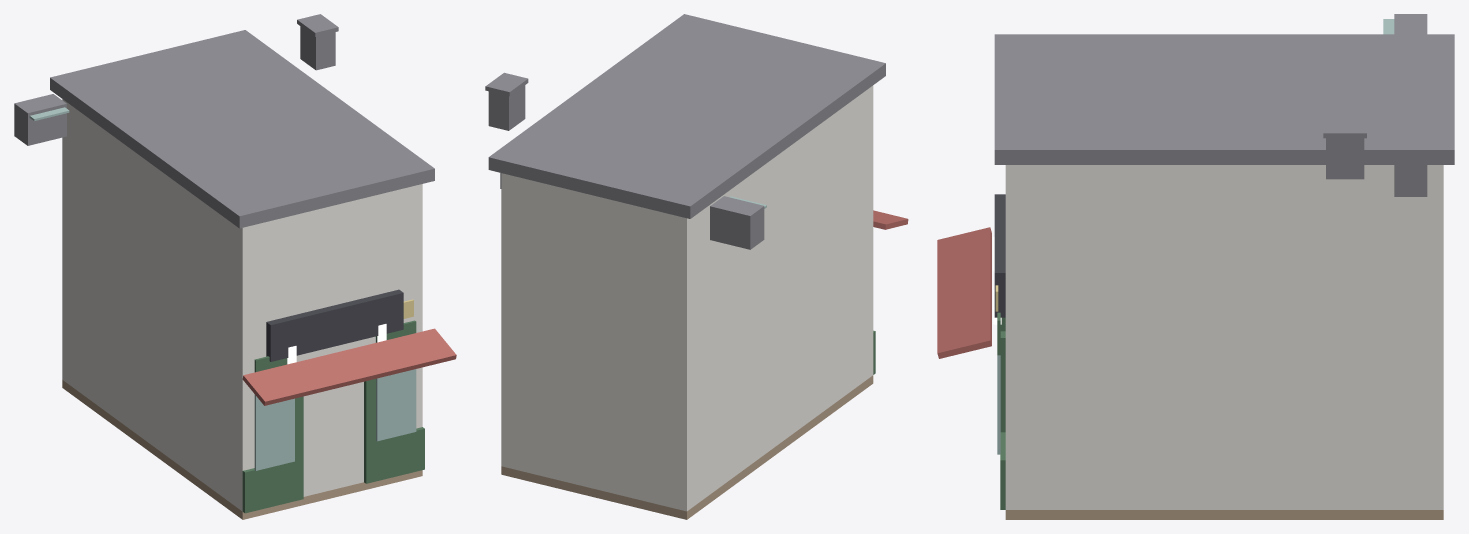
The model's file is cafe.glb.
3 renders of one model, left to right at view 1: azimuth 30°, elevation 25°; view 2: azimuth 150°, elevation 25°; view 3: azimuth 270°, elevation 25°, orthographic. The views are drawn at different scales.
Visible parts, largest first — view 1: WallLeft, Roof1, WallFront, Awning1, SignBoard, FrontLintel, FrontLeft, Floor, ShowWindow2, ShowWindow1, FrontRight, ShopBase2 (+8 smaller); view 2: WallLeft, WallBack, Roof1, WallRight, Floor, RoofWindow, Chimney, WallFront, ChimneyCap; view 3: WallRight, Roof1, WallFront, Awning1, WallBack, Floor, Chimney, SignBoard, RoofWindow.002, ChimneyCap, RoofWindow, DoorJambR.
Boxes of the visible parts, <box> form: WallLeft: <box>62,99,256,505</box>; Roof1: <box>50,30,434,228</box>; WallFront: <box>235,184,422,511</box>; Awning1: <box>242,328,456,405</box>; SignBoard: <box>266,289,403,361</box>; FrontLintel: <box>301,198,363,359</box>; FrontLeft: <box>242,214,301,470</box>; Floor: <box>62,380,422,519</box>; ShowWindow2: <box>254,394,294,470</box>; ShowWindow1: <box>376,369,416,441</box>; FrontRight: <box>364,185,422,426</box>; ShopBase2: <box>242,458,303,513</box>; WallLeft: <box>672,85,873,511</box>; WallBack: <box>501,173,694,507</box>; Roof1: <box>488,14,885,218</box>; WallRight: <box>501,173,515,469</box>; Floor: <box>501,375,873,519</box>; RoofWindow: <box>710,196,764,249</box>; Chimney: <box>488,85,525,130</box>; WallFront: <box>865,131,873,379</box>; ChimneyCap: <box>485,72,528,96</box>; WallRight: <box>1005,165,1443,509</box>; Roof1: <box>994,34,1454,164</box>; WallFront: <box>1005,165,1024,509</box>; Awning1: <box>937,227,991,358</box>; WallBack: <box>1424,165,1443,509</box>; Floor: <box>1005,510,1443,519</box>; Chimney: <box>1326,138,1364,179</box>; SignBoard: <box>994,194,1005,317</box>; RoofWindow.002: <box>1394,157,1427,196</box>; ChimneyCap: <box>1323,119,1366,138</box>; RoofWindow: <box>1394,14,1427,34</box>; DoorJambR: <box>1000,331,1005,432</box>.
Bounding box in the file's own units: 7.2 × 8.35 × 9.45.
